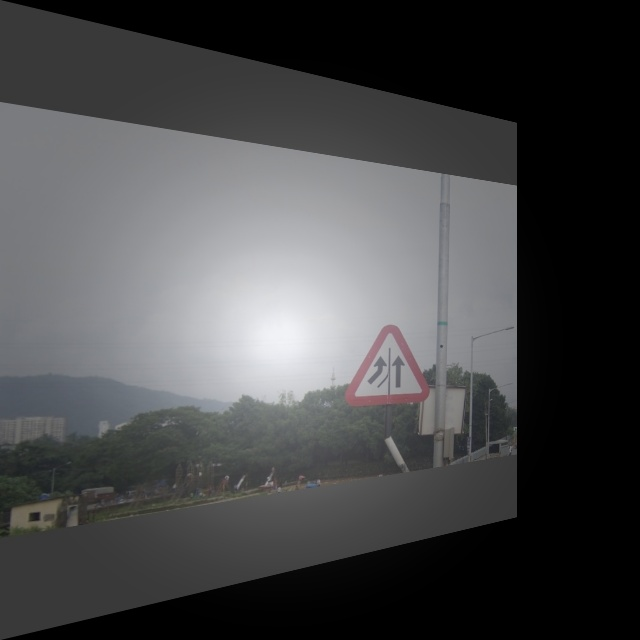Merge_Traffic_Ahead: (343, 325, 433, 412)
